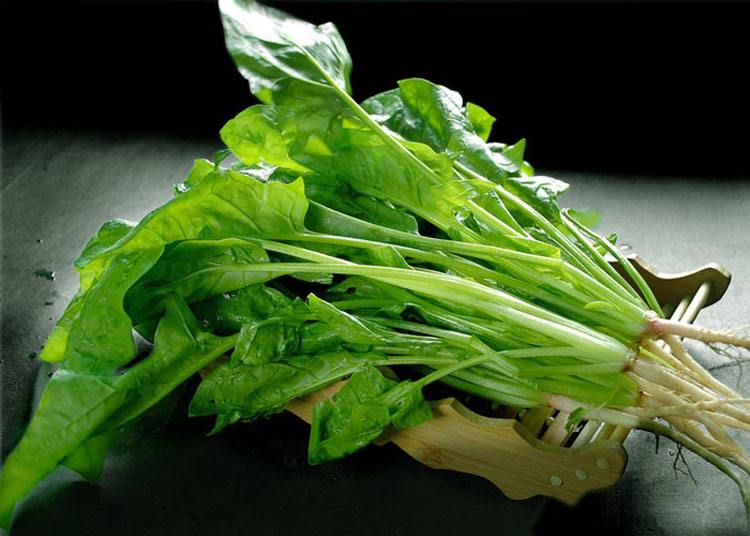bocai: (249, 183, 585, 357), (221, 1, 492, 171)
